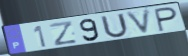1: (33, 24, 48, 48)
9: (79, 18, 101, 42)
P: (154, 6, 180, 33)
U: (99, 12, 130, 39)
V: (124, 7, 153, 36)
Z: (48, 20, 80, 48)
